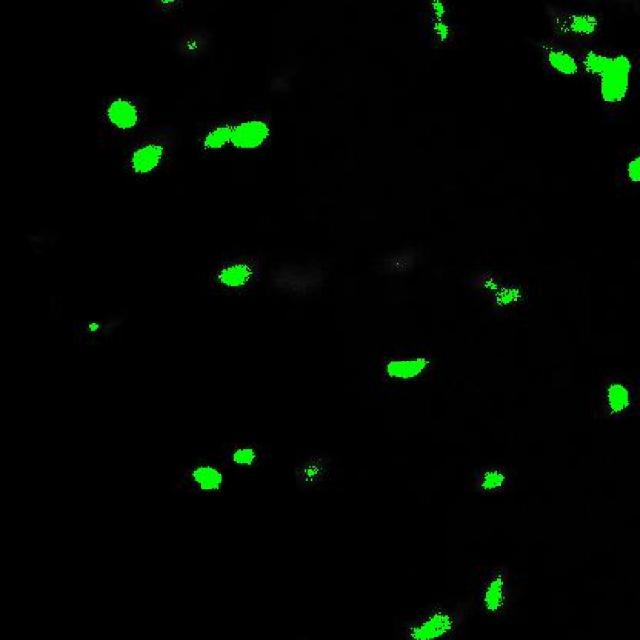Cell: (594, 52, 630, 99), (209, 123, 267, 149), (133, 146, 162, 174), (416, 615, 448, 640), (387, 360, 425, 381), (218, 265, 250, 289), (550, 50, 578, 77), (111, 101, 135, 129), (198, 471, 220, 491), (611, 385, 627, 408)
